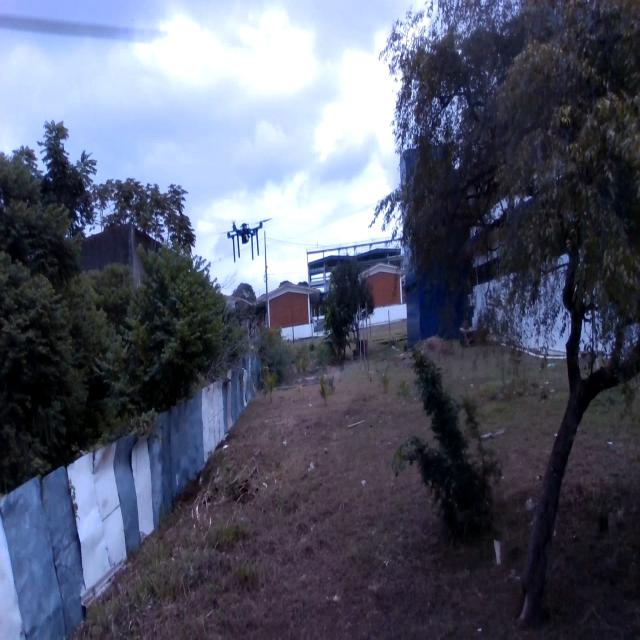-uav-: (218, 209, 276, 268)
